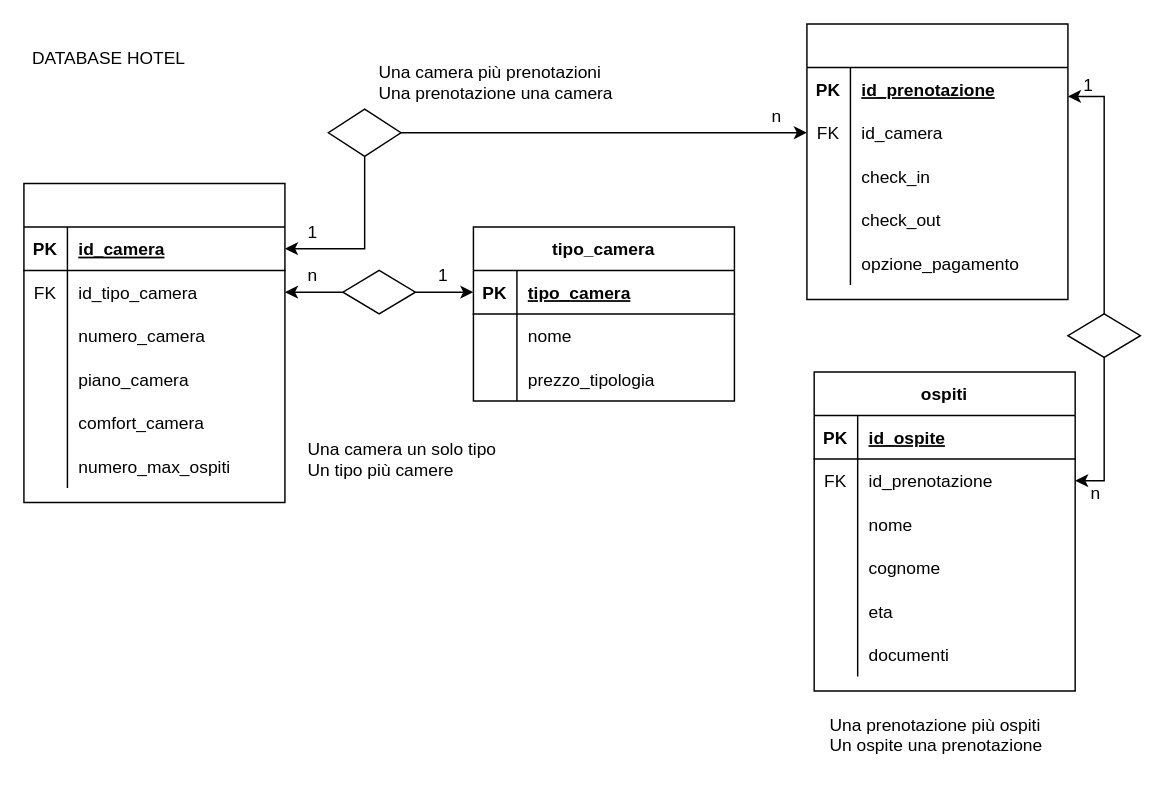
This 1164x802 diagram has some shape labels left out. The box of each missing label's shape, as (x1, y1, x2, y2) in pixels:
camere: (22, 182, 285, 502)
prenotazioni: (805, 22, 1068, 299)
